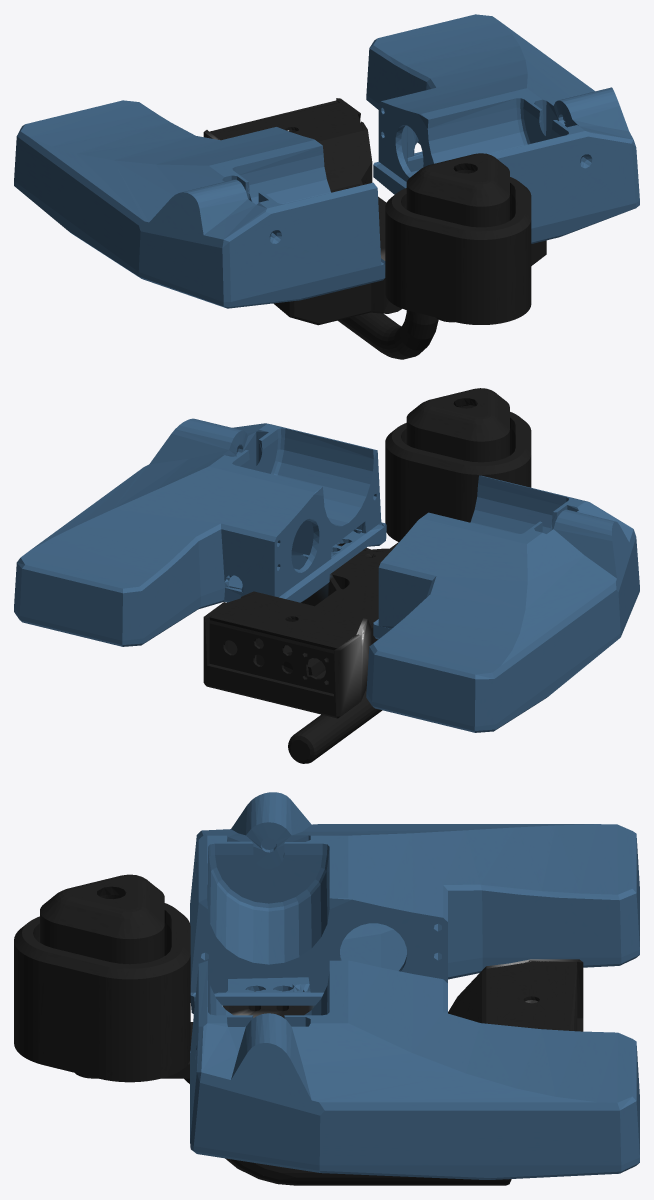
File: Altiscan2t_no_wheels.dae
The picture shows the model from 3 angles, top to bottom: view 1: azimuth 30°, elevation 25°; view 2: azimuth 150°, elevation 25°; view 3: azimuth 270°, elevation 25°; orthographic projection. The views are drawn at different scales.
Parts seen in each view (by area): view 1: node; view 2: node; view 3: node.
Boxes of the visible parts, x1,y1,x2,y2 form: node: (14,14,639,359); node: (14,388,639,763); node: (14,792,639,1185).
Bounding box in the file's own units: 0.3378 × 0.1612 × 0.3144.
1 material, 1 textured.
